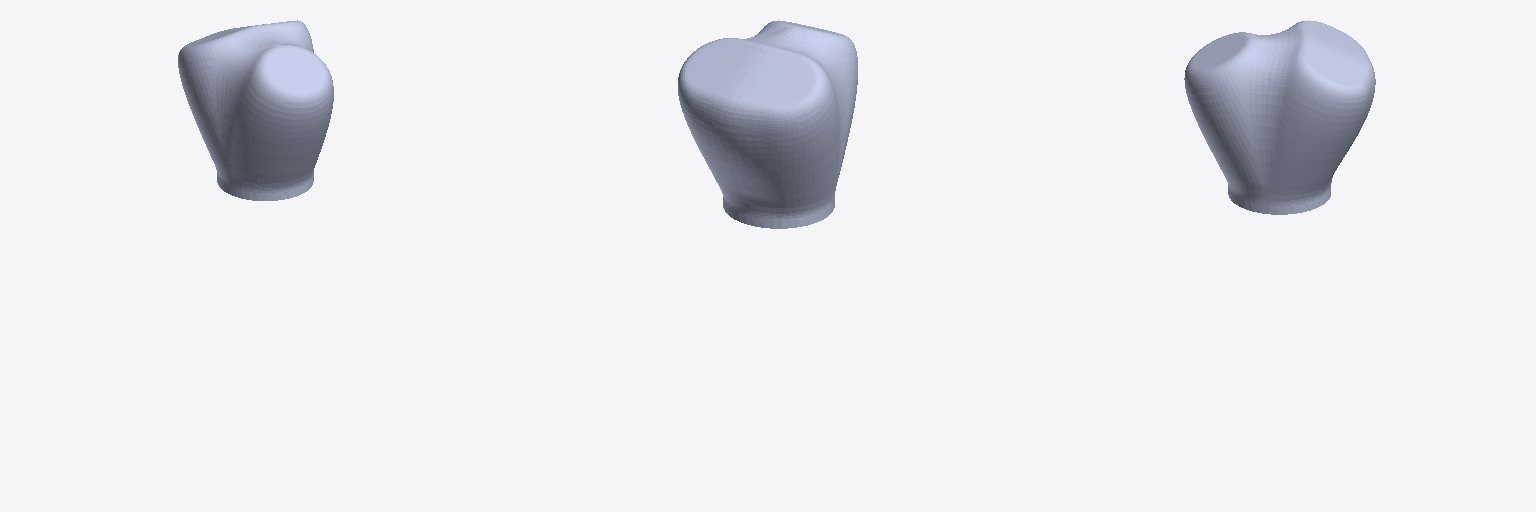
robot.urdf — jaco:
<?xml version="1.0" ?>
<!-- =================================================================================== -->
<!-- |    This document was autogenerated by xacro from [local-path]/groovy_workspace/jaco_arm/jaco_model/urdf/standalone_arm.xacro | -->
<!-- |    EDITING THIS FILE BY HAND IS NOT RECOMMENDED                                 | -->
<!-- =================================================================================== -->
<robot name="jaco" xmlns:body="http://playerstage.sourceforge.net/gazebo/xmlschema/#body" xmlns:controller="http://playerstage.sourceforge.net/gazebo/xmlschema/#controller" xmlns:gazebo="http://playerstage.sourceforge.net/gazebo/xmlschema/#gz" xmlns:geom="http://playerstage.sourceforge.net/gazebo/xmlschema/#geom" xmlns:interface="http://playerstage.sourceforge.net/gazebo/xmlschema/#interface" xmlns:joint="http://playerstage.sourceforge.net/gazebo/xmlschema/#joint" xmlns:model="http://playerstage.sourceforge.net/gazebo/xmlschema/#model" xmlns:physics="http://playerstage.sourceforge.net/gazebo/xmlschema/#physics" xmlns:renderable="http://playerstage.sourceforge.net/gazebo/xmlschema/#renderable" xmlns:rendering="http://playerstage.sourceforge.net/gazebo/xmlschema/#rendering" xmlns:sensor="http://playerstage.sourceforge.net/gazebo/xmlschema/#sensor" xmlns:xacro="http://ros.org/wiki/xacro" xmlns:xi="http://www.w3.org/2001/XInclude">
  <link name="root">
    <visual>
      <origin rpy="0 0 0" xyz="0 0 0"/>
      <geometry>
        <box size="0 0 0"/>
        <!--making it slightly bigger in x and z direction-->
      </geometry>
      <material name="Black"/>
    </visual>
    <collision>
      <origin rpy="0 0 0" xyz="0 0 0"/>
      <geometry>
        <box size="0 0 0"/>
        <!--making it slightly bigger in x and z direction-->
      </geometry>
    </collision>
  </link>
  <link name="jaco_link_base">
    <visual>
      <geometry>
        <mesh filename="package://jaco_model/meshes/jaco_link_base.dae"/>
      </geometry>
      <material name="carbon_fiber">
        <color rgba="0.792156862745098 0.819607843137255 0.933333333333333 1"/>
      </material>
    </visual>
    <collision>
      <geometry>
        <mesh filename="package://jaco_model/meshes/jaco_link_base.dae"/>
      </geometry>
    </collision>
  </link>
  <joint name="jaco_joint_base" type="fixed">
    <parent link="root"/>
    <child link="jaco_link_base"/>
    <axis xyz="0 0 0"/>
    <origin rpy="0 0 0" xyz="0 0 0"/>
  </joint>
  <link name="jaco_link_1">
    <visual>
      <geometry>
        <mesh filename="package://jaco_model/meshes/jaco_link_1.dae"/>
      </geometry>
      <material name="carbon_fiber">
        <color rgba="0.792156862745098 0.819607843137255 0.933333333333333 1"/>
      </material>
    </visual>
    <collision>
      <geometry>
        <mesh filename="package://jaco_model/meshes/jaco_link_1.dae"/>
      </geometry>
    </collision>
  </link>
  <joint name="jaco_joint_1" type="continuous">
    <parent link="jaco_link_base"/>
    <child link="jaco_link_1"/>
    <axis xyz="0 0 1"/>
    <origin rpy="3.14159265359 0 0" xyz="0 0 0.1535"/>
  </joint>
  <link name="jaco_link_2">
    <visual>
      <geometry>
        <mesh filename="package://jaco_model/meshes/jaco_link_2.dae"/>
      </geometry>
      <material name="carbon_fiber">
        <color rgba="0.792156862745098 0.819607843137255 0.933333333333333 1"/>
      </material>
    </visual>
    <collision>
      <geometry>
        <mesh filename="package://jaco_model/meshes/jaco_link_2.dae"/>
      </geometry>
    </collision>
  </link>
  <joint name="jaco_joint_2" type="continuous">
    <parent link="jaco_link_1"/>
    <child link="jaco_link_2"/>
    <axis xyz="0 0 1"/>
    <origin rpy="-1.57079632679 -1.57079632679 0" xyz="0 0 -0.1185"/>
  </joint>
  <link name="jaco_link_3">
    <visual>
      <geometry>
        <mesh filename="package://jaco_model/meshes/jaco_link_3.dae"/>
      </geometry>
      <material name="carbon_fiber">
        <color rgba="0.792156862745098 0.819607843137255 0.933333333333333 1"/>
      </material>
    </visual>
    <collision>
      <geometry>
        <mesh filename="package://jaco_model/meshes/jaco_link_3.dae"/>
      </geometry>
    </collision>
  </link>
  <joint name="jaco_joint_3" type="continuous">
    <parent link="jaco_link_2"/>
    <child link="jaco_link_3"/>
    <axis xyz="0 0 1"/>
    <origin rpy="3.14159265359 0 3.14159265359" xyz="0.41 0 0"/>
  </joint>
  <link name="jaco_link_4">
    <visual>
      <geometry>
        <mesh filename="package://jaco_model/meshes/jaco_link_4.dae"/>
      </geometry>
      <material name="carbon_fiber">
        <color rgba="0.792156862745098 0.819607843137255 0.933333333333333 1"/>
      </material>
    </visual>
    <collision>
      <geometry>
        <mesh filename="package://jaco_model/meshes/jaco_link_4.dae"/>
      </geometry>
    </collision>
  </link>
  <joint name="jaco_joint_4" type="continuous">
    <parent link="jaco_link_3"/>
    <child link="jaco_link_4"/>
    <axis xyz="0 0 1"/>
    <origin rpy="0 -1.57079632679 0" xyz="0.207 0 -0.01125"/>
  </joint>
  <link name="jaco_link_5">
    <visual>
      <geometry>
        <mesh filename="package://jaco_model/meshes/jaco_link_5.dae"/>
      </geometry>
      <material name="carbon_fiber">
        <color rgba="0.792156862745098 0.819607843137255 0.933333333333333 1"/>
      </material>
    </visual>
    <collision>
      <geometry>
        <mesh filename="package://jaco_model/meshes/jaco_link_5.dae"/>
      </geometry>
    </collision>
  </link>
  <joint name="jaco_joint_5" type="continuous">
    <parent link="jaco_link_4"/>
    <child link="jaco_link_5"/>
    <axis xyz="0 0 1"/>
    <origin rpy="0 0.959931088597 3.14159265359" xyz="0.0343 0 -0.06588"/>
  </joint>
  <link name="jaco_link_hand">
    <visual>
      <geometry>
        <mesh filename="package://jaco_model/meshes/jaco_link_hand.dae"/>
      </geometry>
      <material name="carbon_fiber">
        <color rgba="0.792156862745098 0.819607843137255 0.933333333333333 1"/>
      </material>
    </visual>
    <collision>
      <geometry>
        <mesh filename="package://jaco_model/meshes/jaco_link_hand.dae"/>
      </geometry>
    </collision>
  </link>
  <joint name="jaco_joint_6" type="continuous">
    <parent link="jaco_link_5"/>
    <child link="jaco_link_hand"/>
    <axis xyz="0 0 1"/>
    <origin rpy="0 0.959931088597 3.14159265359" xyz="0.0343 0 -0.06588"/>
  </joint>
  <link name="jaco_link_finger_1">
    <visual>
      <geometry>
        <mesh filename="package://jaco_model/meshes/jaco_link_finger_1.dae"/>
      </geometry>
      <material name="carbon_fiber">
        <color rgba="0.792156862745098 0.819607843137255 0.933333333333333 1"/>
      </material>
    </visual>
    <collision>
      <geometry>
        <mesh filename="package://jaco_model/meshes/jaco_link_finger_1.dae"/>
      </geometry>
    </collision>
  </link>
  <joint name="jaco_joint_finger_1" type="revolute">
    <parent link="jaco_link_hand"/>
    <child link="jaco_link_finger_1"/>
    <axis xyz="0 0 1"/>
    <origin rpy="-1.7983 1.117 3.1416" xyz="-0.03978 0 -0.10071"/>
    <limit effort="30" lower="0" upper="0.698131700798" velocity="5"/>
  </joint>
  <link name="jaco_link_finger_2">
    <visual>
      <geometry>
        <mesh filename="package://jaco_model/meshes/jaco_link_finger_2.dae"/>
      </geometry>
      <material name="carbon_fiber">
        <color rgba="0.792156862745098 0.819607843137255 0.933333333333333 1"/>
      </material>
    </visual>
    <collision>
      <geometry>
        <mesh filename="package://jaco_model/meshes/jaco_link_finger_2.dae"/>
      </geometry>
    </collision>
  </link>
  <joint name="jaco_joint_finger_2" type="revolute">
    <parent link="jaco_link_hand"/>
    <child link="jaco_link_finger_2"/>
    <axis xyz="0 0 1"/>
    <origin rpy="-1.6222 1.117 -0.23615" xyz="0.03569 -0.0216 -0.10071"/>
    <limit effort="30" lower="0" upper="0.698131700798" velocity="5"/>
  </joint>
  <link name="jaco_link_finger_3">
    <visual>
      <geometry>
        <mesh filename="package://jaco_model/meshes/jaco_link_finger_3.dae"/>
      </geometry>
      <material name="carbon_fiber">
        <color rgba="0.792156862745098 0.819607843137255 0.933333333333333 1"/>
      </material>
    </visual>
    <collision>
      <geometry>
        <mesh filename="package://jaco_model/meshes/jaco_link_finger_3.dae"/>
      </geometry>
    </collision>
  </link>
  <joint name="jaco_joint_finger_3" type="revolute">
    <parent link="jaco_link_hand"/>
    <child link="jaco_link_finger_3"/>
    <axis xyz="0 0 1"/>
    <origin rpy="-1.5161 1.1459 0.23978" xyz="0.03569 0.0216 -0.10071"/>
    <limit effort="30" lower="0" upper="0.698131700798" velocity="5"/>
  </joint>
</robot>

--- Facts derived from the render (not from the file) ---
3 views of the same robot in one strip: view 1: azimuth 30°, elevation 25°; view 2: azimuth 150°, elevation 25°; view 3: azimuth 270°, elevation 25° (orthographic).
Model jaco with 11 links and 10 joints (3 revolute, 6 continuous, 1 fixed), rooted at root, posed every joint at zero.
Visible links, largest first — view 1: jaco_link_hand; view 2: jaco_link_hand; view 3: jaco_link_hand.
Link boxes in pixels (x1=…): jaco_link_hand: x1=178, y1=20, x2=333, y2=200; jaco_link_hand: x1=678, y1=20, x2=857, y2=228; jaco_link_hand: x1=1184, y1=20, x2=1375, y2=214.
Size in the robot's own frame: 0.0928 by 0.1165 by 0.3057 metres.
Meshes: 10 distinct files referenced, 1 mesh visuals loaded (1 Collada DAE); not drawn: 9 (reference not matched to a file when rendering).